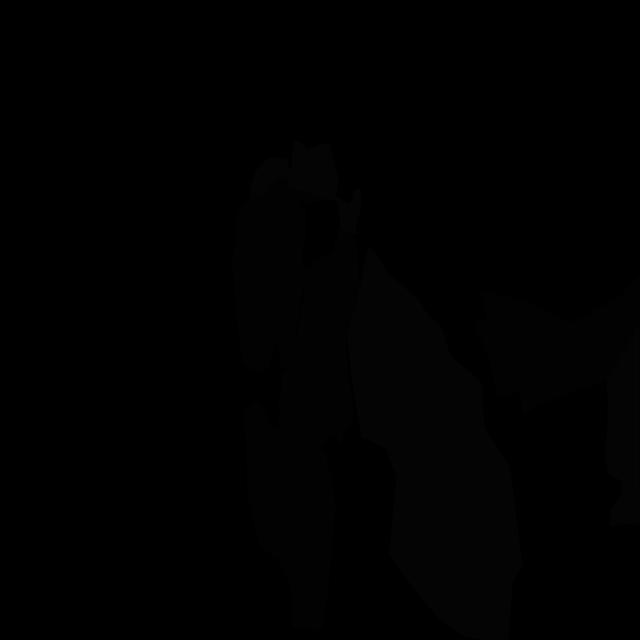cardboard: (243, 228, 360, 631), (472, 274, 640, 416), (232, 177, 330, 374)
soft_plastic: (346, 246, 522, 640), (250, 140, 361, 236), (605, 323, 640, 527)
